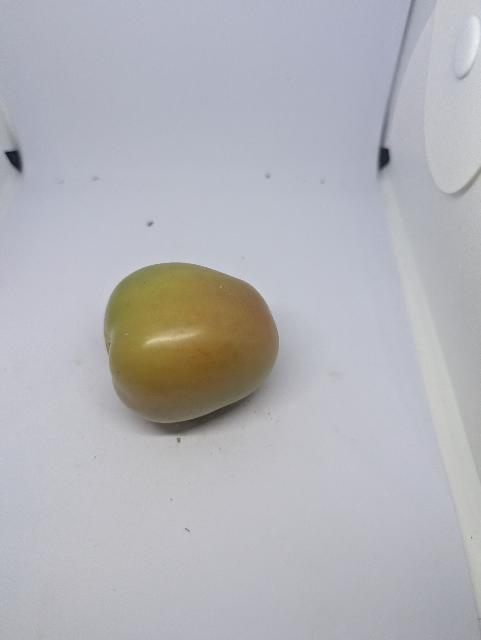breaker: (97, 257, 285, 428)
